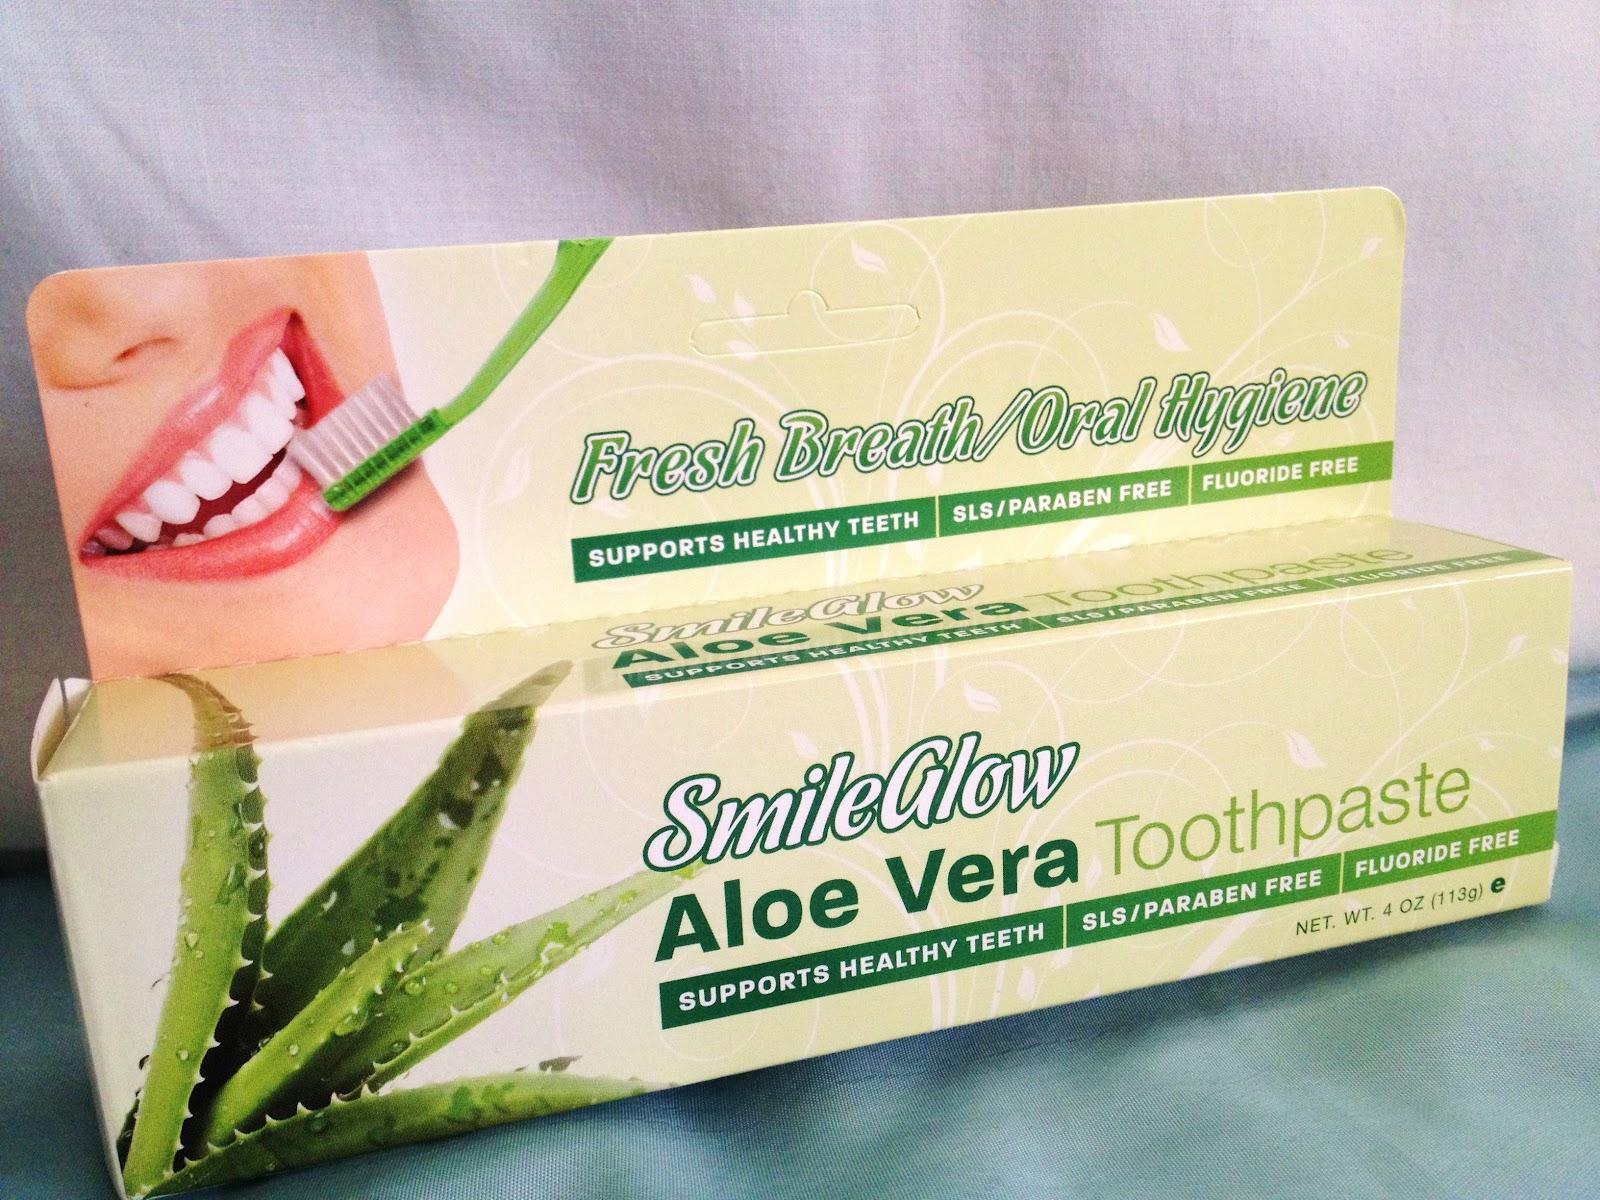toothpaste: (0, 484, 1570, 1182)
